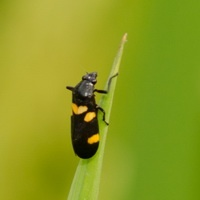insect: (66, 72, 117, 158)
